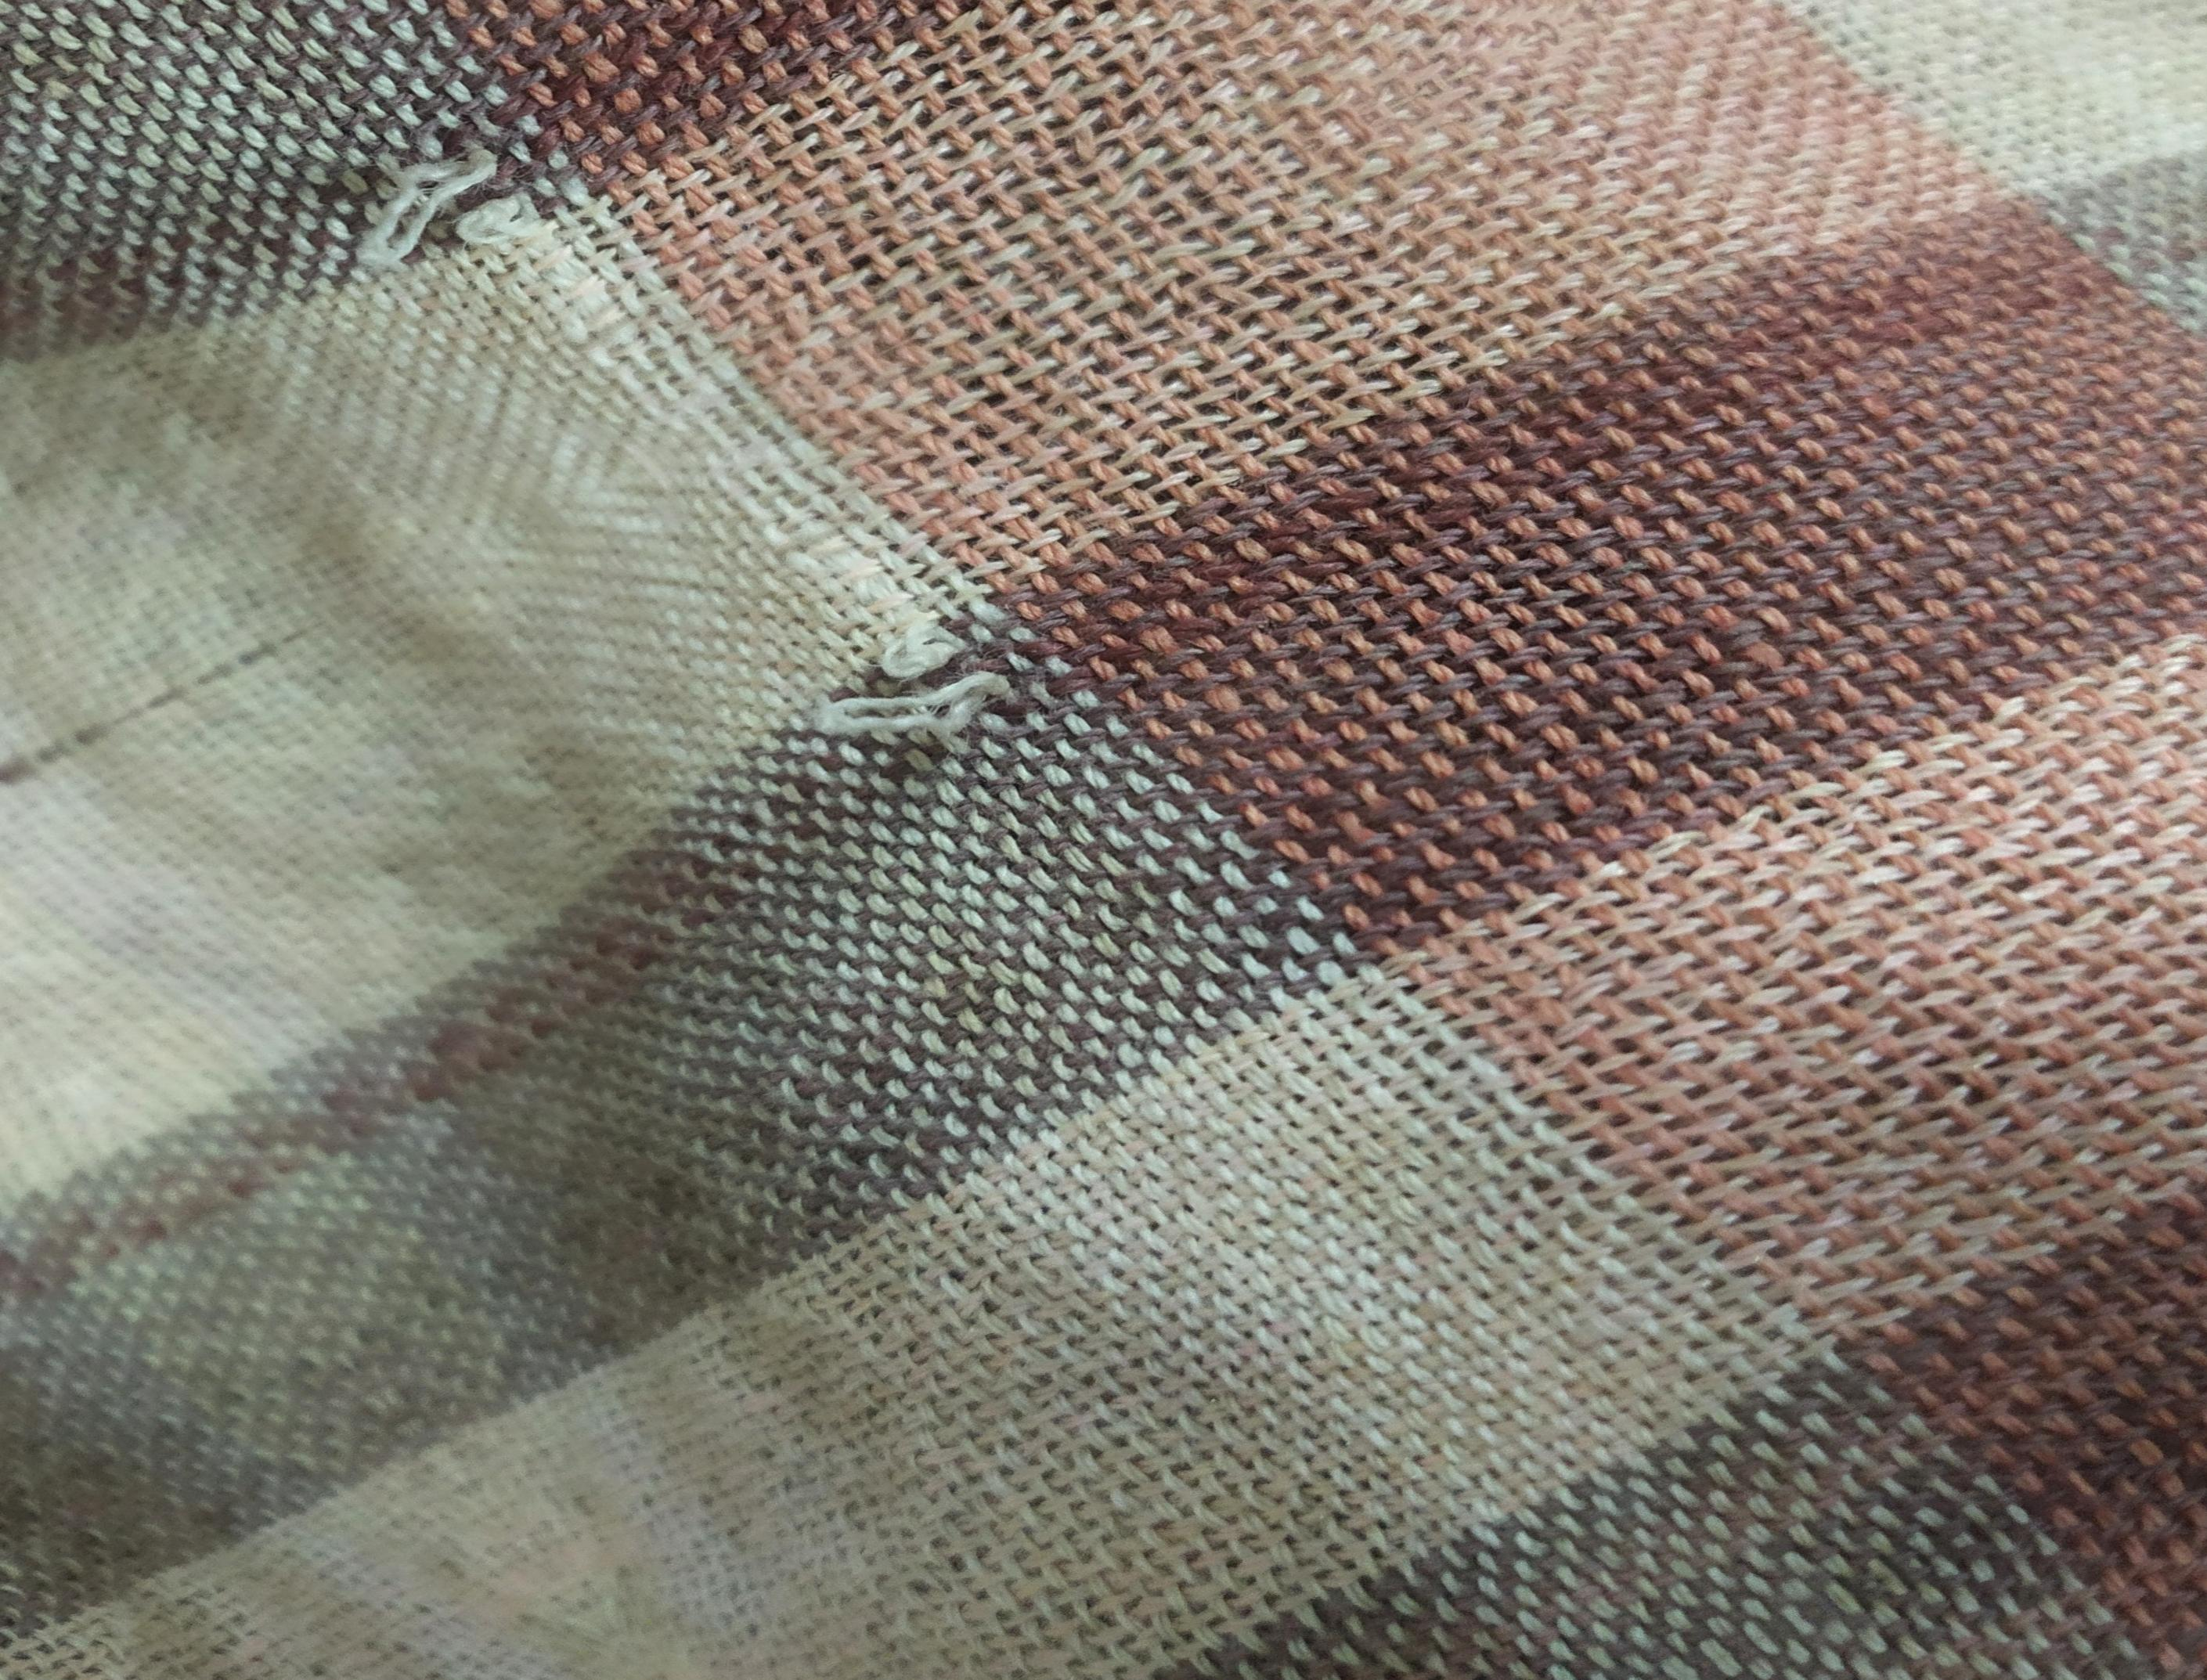snag: (344, 122, 579, 295), (804, 605, 1013, 778)
